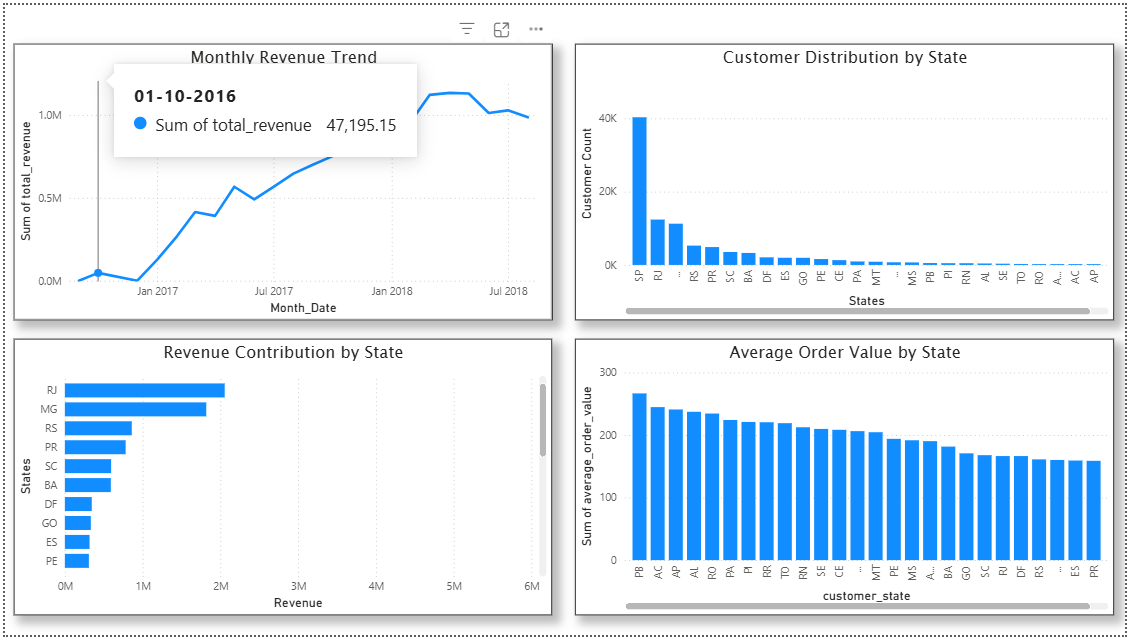

This screenshot's page, from the dashboard's own definition file:
{"tool":"powerbi","page":{"name":"Page 1","canvas":[1280,720],"ordinal":0},"visuals":[{"type":"lineChart","title":"Monthly Revenue Trend","fields":{"Y":["Sum(Query2.total_revenue)"],"Category":["Query2.Month_Date"]},"box":[10,44,616,316],"z":0},{"type":"clusteredColumnChart","title":"Customer Distribution by State","fields":{"Category":["Query1.customer_state"],"Y":["Sum(Query1.customer_count)"]},"box":[652,44,616,316],"z":1},{"type":"clusteredBarChart","title":"Revenue Contribution by State","fields":{"Category":["Query3.customer_state"],"Y":["Sum(Query3.total_revenue_including_freight)"]},"box":[10,382,615,316],"z":2},{"type":"clusteredColumnChart","title":"Average Order Value by State","fields":{"Y":["Sum(Query5.average_order_value)"],"Category":["Query5.customer_state"]},"box":[652,382,616,316],"z":3}]}

Visuals, with their boxes in screenshot pixels (x1, y1, x2, y2), scaled from the page's 1280x720 canvas onto the 1128x640 screenshot:
"Monthly Revenue Trend" lineChart: l=9, t=39, r=552, b=320
"Customer Distribution by State" clusteredColumnChart: l=575, t=39, r=1117, b=320
"Revenue Contribution by State" clusteredBarChart: l=9, t=340, r=551, b=620
"Average Order Value by State" clusteredColumnChart: l=575, t=340, r=1117, b=620
